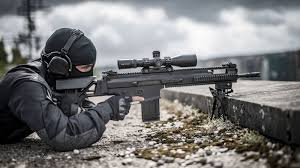Arma Real: (51, 51, 261, 118)
